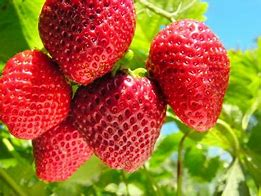Fresa: (70, 63, 169, 175), (146, 17, 234, 134), (36, 1, 138, 89), (1, 46, 74, 142), (32, 110, 97, 185)
